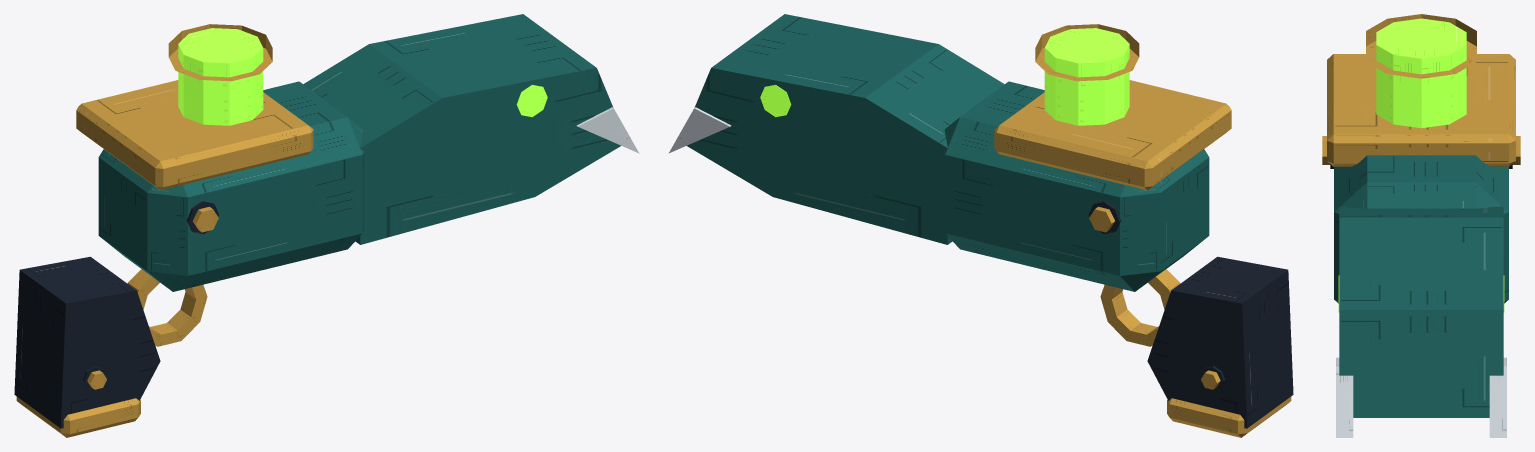
The model's file is viper.glb.
3 views of the same model, side by side, from view 1: azimuth 30°, elevation 25°; view 2: azimuth 150°, elevation 25°; view 3: azimuth 270°, elevation 25° (orthographic). The views are drawn at different scales.
Visible parts, largest first — view 1: body, barrel, grip, core; view 2: body, barrel, grip, core; view 3: barrel, body, core.
Boxes of the visible parts, x1,y1,x2,y2 form: body: [76, 80, 364, 346]; barrel: [303, 14, 639, 244]; grip: [14, 256, 160, 437]; core: [168, 24, 272, 125]; body: [943, 80, 1231, 346]; barrel: [668, 14, 1004, 244]; grip: [1147, 256, 1293, 437]; core: [1035, 24, 1139, 125]; barrel: [1336, 206, 1506, 437]; body: [1322, 54, 1520, 303]; core: [1366, 14, 1476, 128].
Bounding box in the file's own units: 0.548 × 0.3095 × 0.1498.
Materials: 5 (5 with a texture image).
